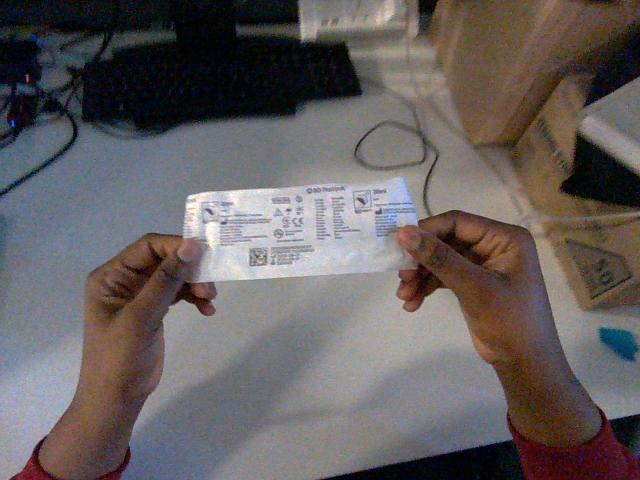syringe: (183, 178, 416, 282), (299, 0, 418, 40)
